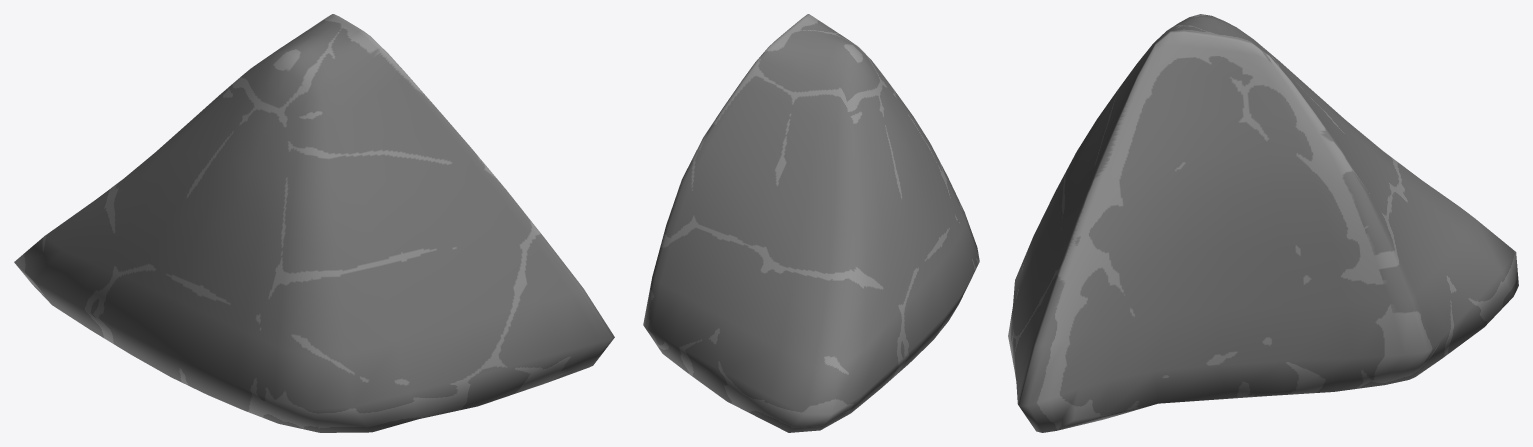
The model's file is CTS_E_PalmRockF.fbx.
The picture shows the model from 3 angles, left to right: view 1: azimuth 30°, elevation 25°; view 2: azimuth 150°, elevation 25°; view 3: azimuth 270°, elevation 25°; orthographic projection. The views are drawn at different scales.
Visible parts, largest first — view 1: CTS_E_PalmRockF; view 2: CTS_E_PalmRockF; view 3: CTS_E_PalmRockF.
Part boxes in pixels (box(x1,y1,x2,y2)): CTS_E_PalmRockF: box(14, 14, 614, 432); CTS_E_PalmRockF: box(643, 14, 979, 432); CTS_E_PalmRockF: box(1008, 14, 1518, 432).
Size of the model in its own units: 737 by 634 by 880.
